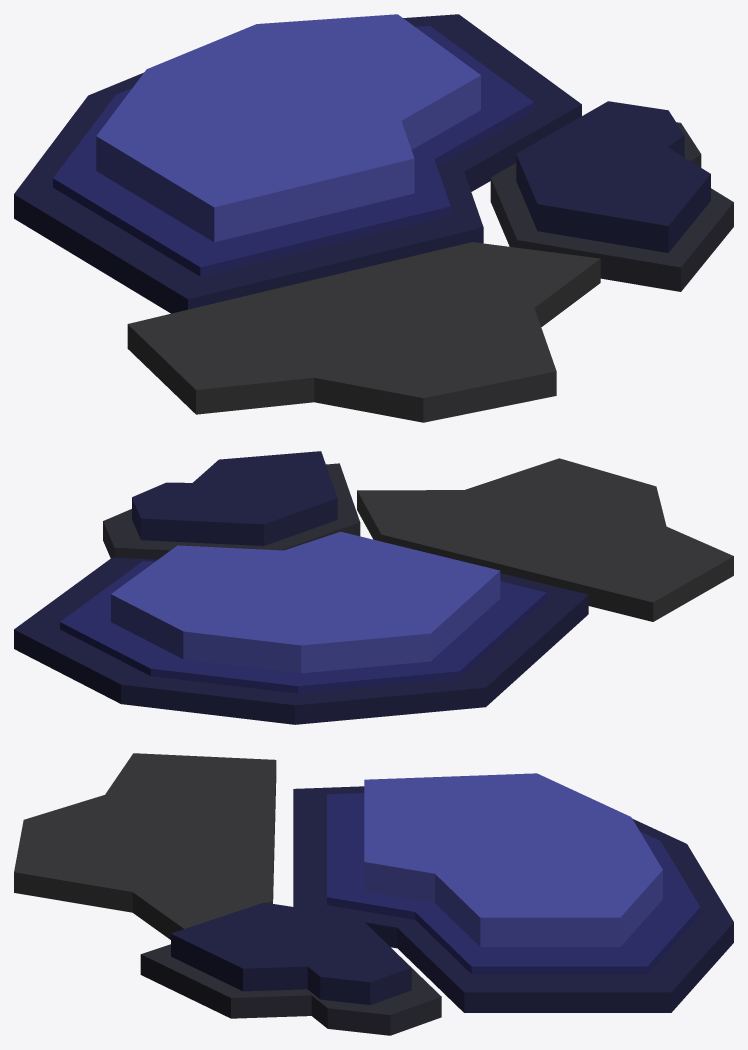
File: NC_Stone05.fbx
3 views of the same model, one above another, from view 1: azimuth 30°, elevation 25°; view 2: azimuth 150°, elevation 25°; view 3: azimuth 270°, elevation 25° (orthographic). The views are drawn at different scales.
Parts seen in each view (by area): view 1: NC_Stone05; view 2: NC_Stone05; view 3: NC_Stone05.
Boxes of the visible parts, <box> form: NC_Stone05: <box>14,14,733,422</box>; NC_Stone05: <box>14,451,733,724</box>; NC_Stone05: <box>14,753,733,1035</box>.
Size of the model in its own units: 70.99 by 7.33 by 82.46.
1 material, 1 textured.
